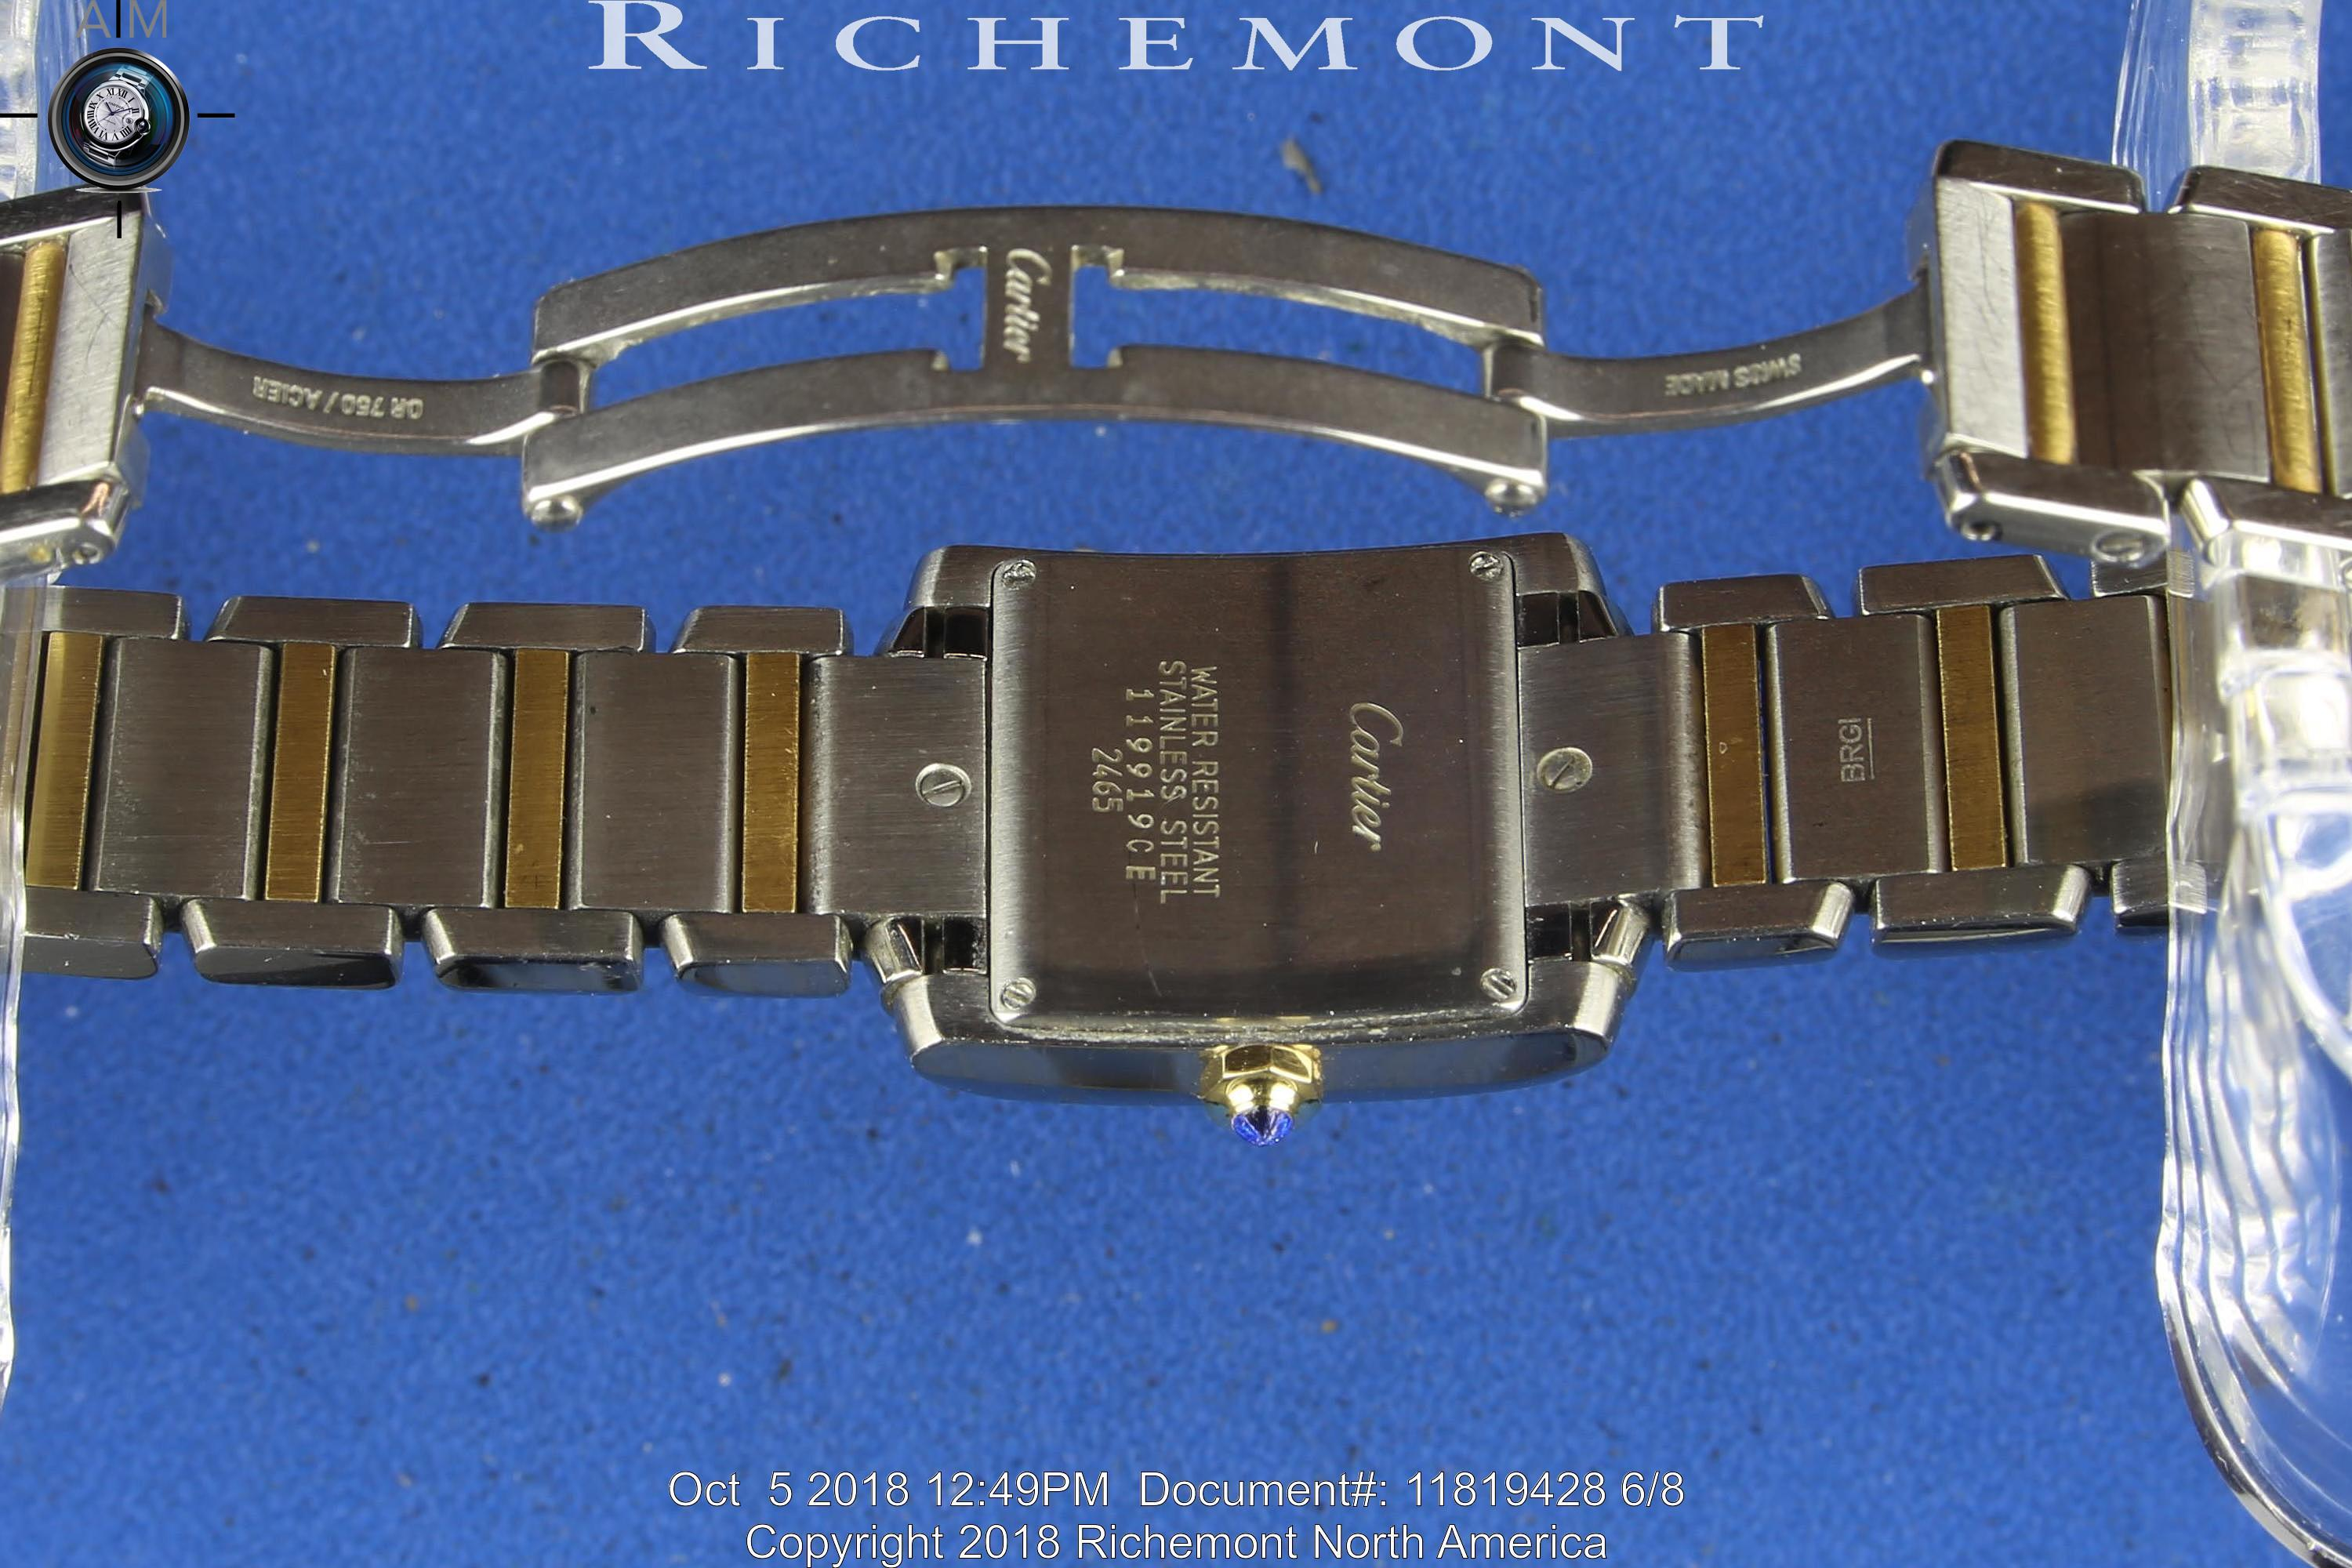watchback: (915, 532, 1650, 1120)
